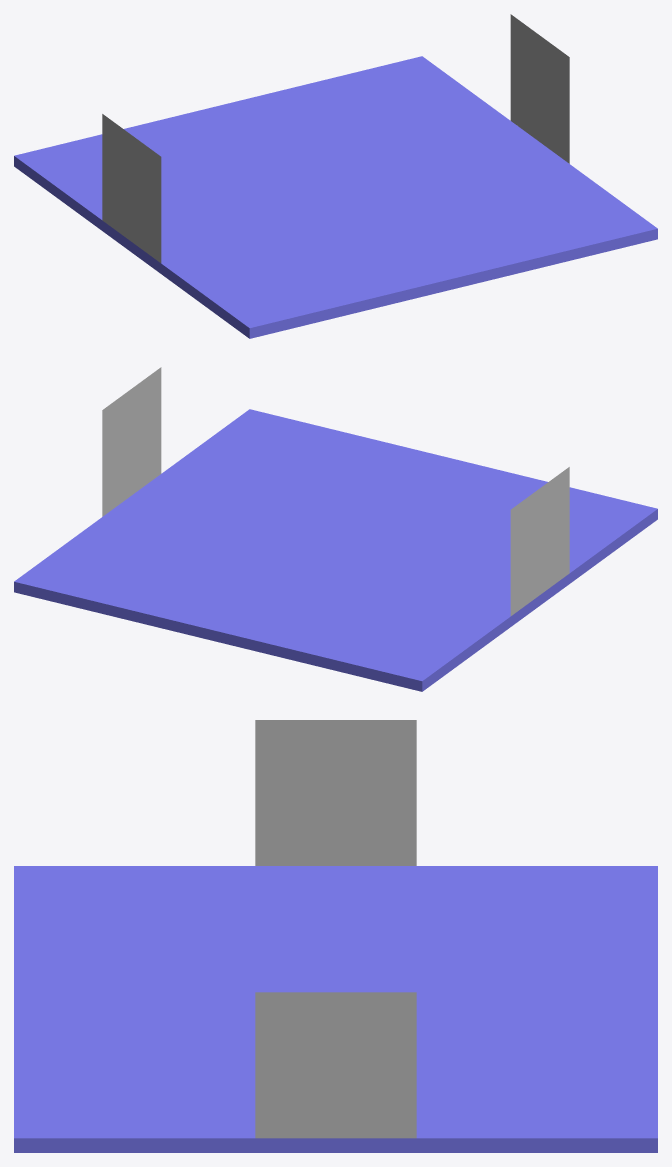
The model's file is emission.obj.
3 renders of one model, top to bottom at view 1: azimuth 30°, elevation 25°; view 2: azimuth 150°, elevation 25°; view 3: azimuth 270°, elevation 25°, orthographic. The views are drawn at different scales.
Parts seen in each view (by area): view 1: default; view 2: default; view 3: default.
Part boxes in pixels (left/top/right/bottom): default: left=14, top=14, right=657, bottom=338; default: left=14, top=367, right=657, bottom=691; default: left=14, top=720, right=657, bottom=1152.
Size of the model in its own units: 400 by 110 by 400.
